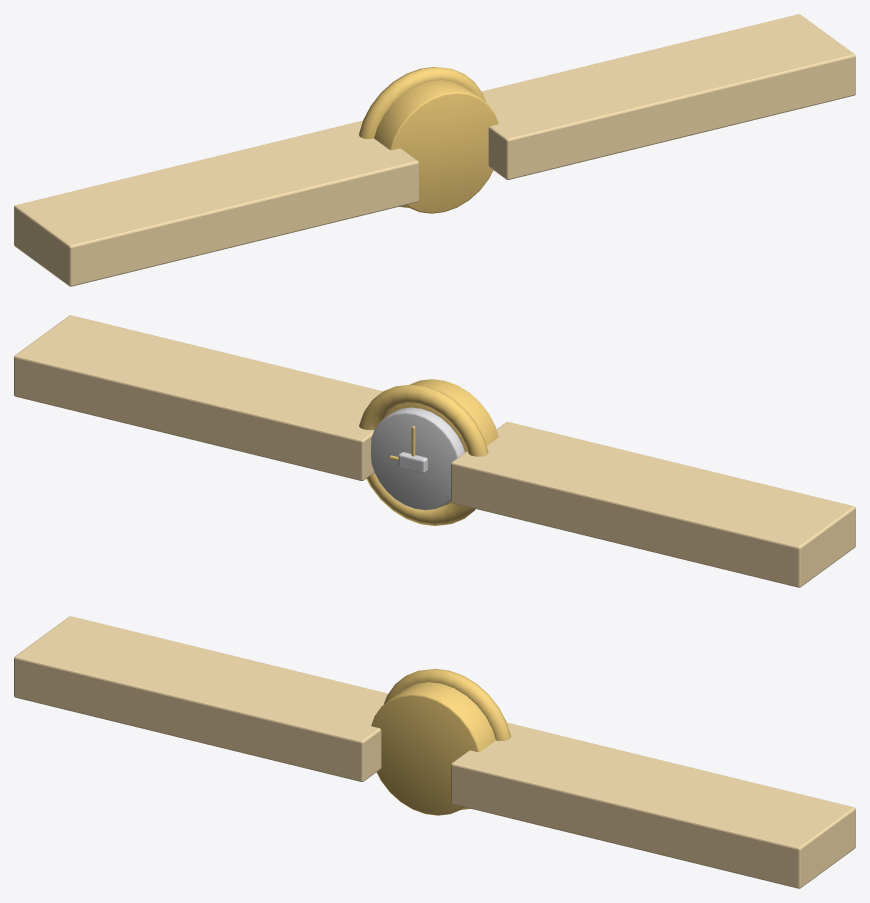
Rendered from VM-NIN-SH38798699.glb.
The picture shows the model from 3 angles, top to bottom: view 1: azimuth 30°, elevation 25°; view 2: azimuth 150°, elevation 25°; view 3: azimuth 330°, elevation 25°; orthographic projection.
Visible parts, largest first — view 1: Reloj Infantil con Diseño de Auto; view 2: Reloj Infantil con Diseño de Auto; view 3: Reloj Infantil con Diseño de Auto.
Boxes of the visible parts, x1=… form: Reloj Infantil con Diseño de Auto: x1=14, y1=14, x2=855, y2=286; Reloj Infantil con Diseño de Auto: x1=14, y1=315, x2=855, y2=587; Reloj Infantil con Diseño de Auto: x1=14, y1=616, x2=855, y2=888.
Size of the model in its own units: 0.2299 by 0.0383 by 0.0287.
